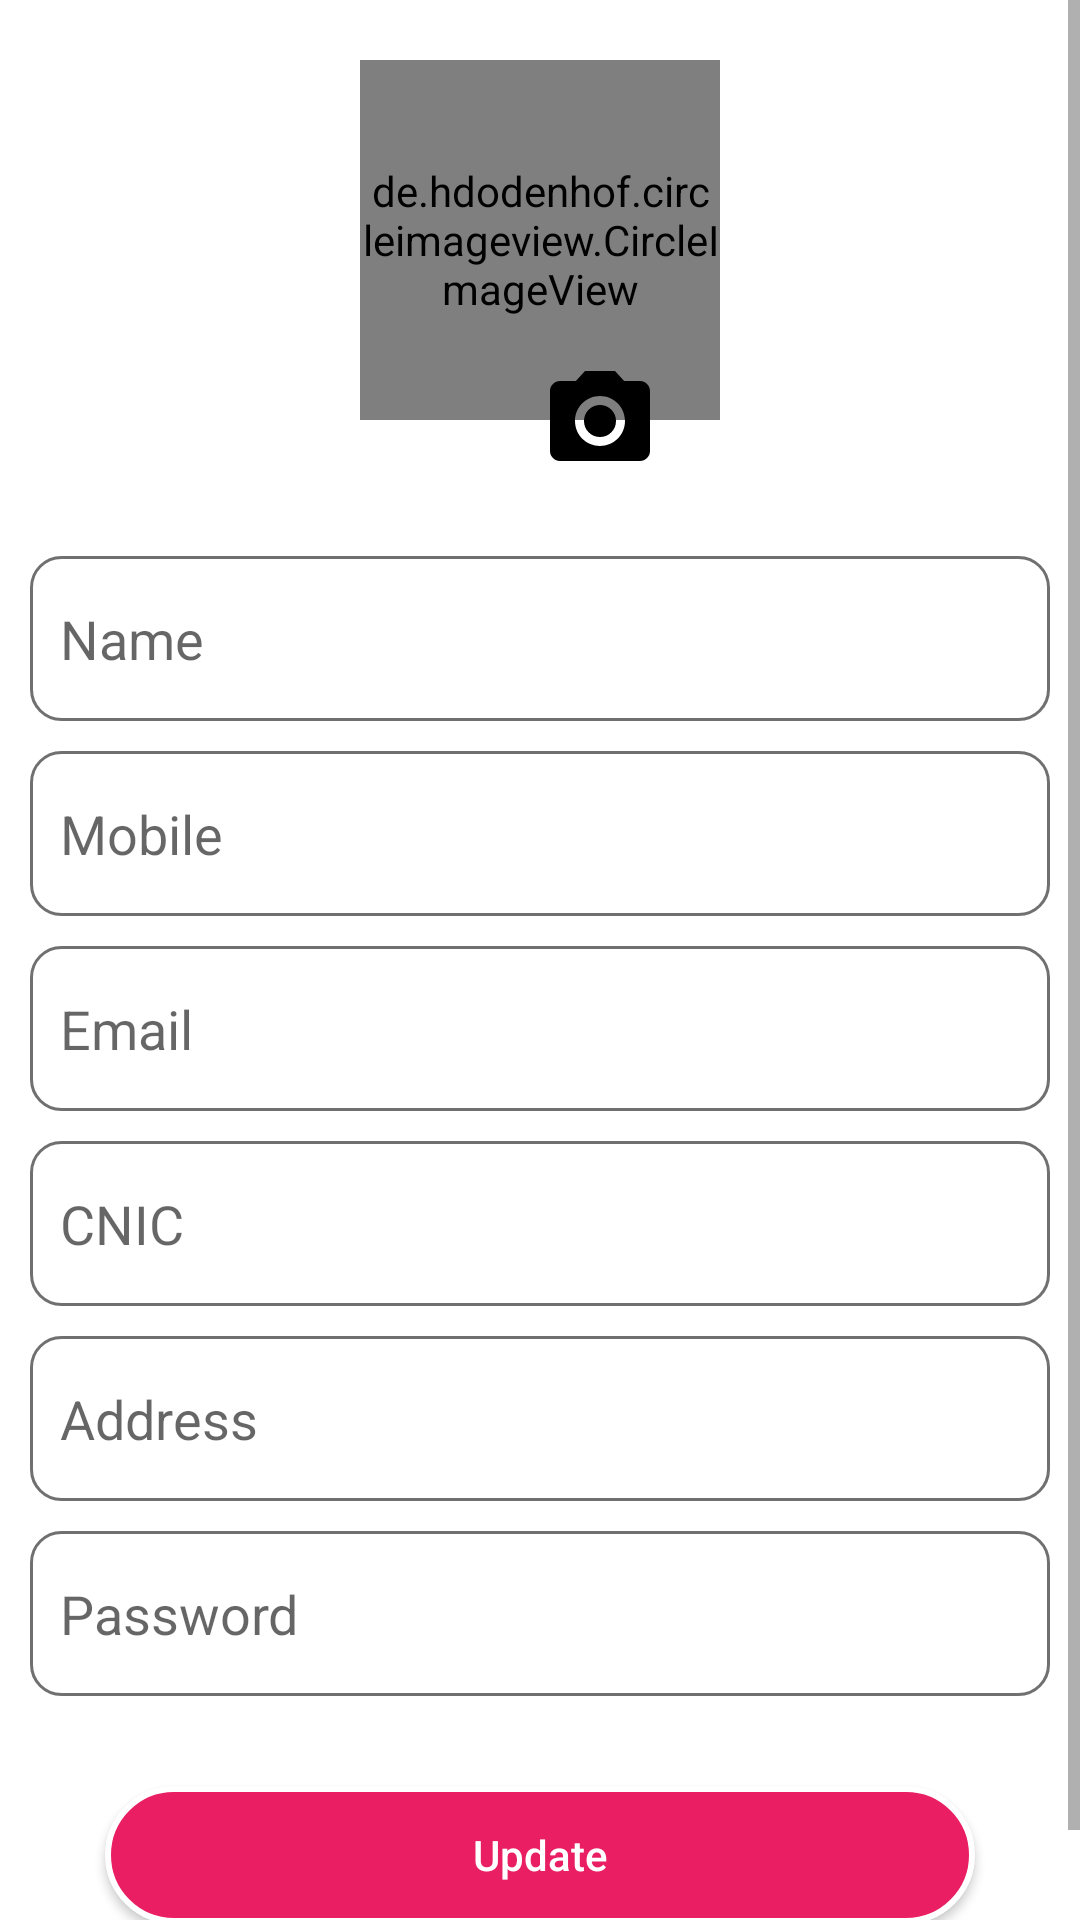

Point at icon controls on the screen. Image size 1080 × 1920, points as point (x, y).
camera: point (600, 421)
